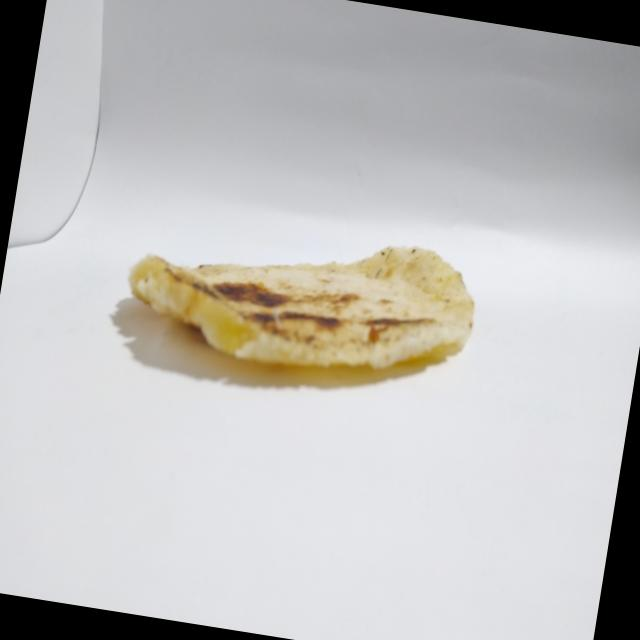Mbeju: (111, 188, 492, 423)
